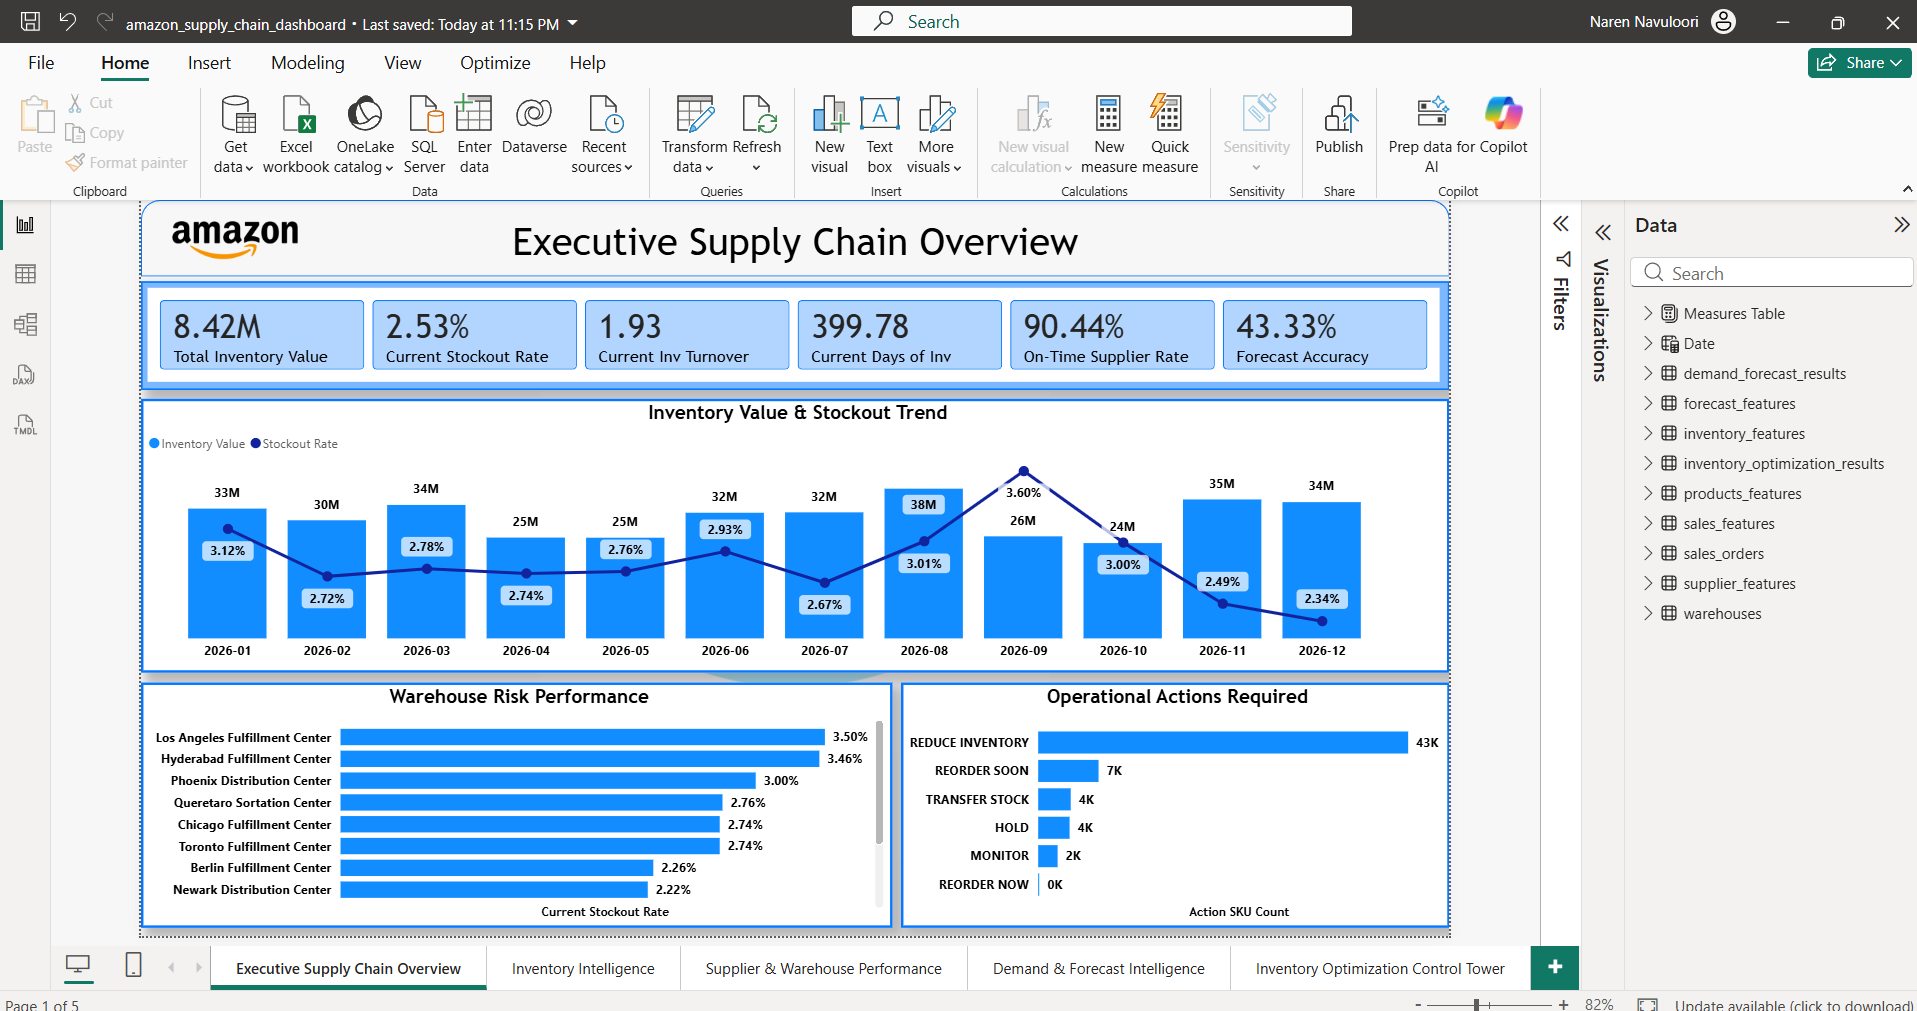

What the dashboard file says about the page in this screenshot:
{"tool":"powerbi","page":{"name":"Executive Supply Chain Overview","canvas":[1280,720],"ordinal":0},"visuals":[{"type":"shape","box":[0,0,1280.2,74.9],"z":0},{"type":"image","box":[11,17.1,160.2,41.6],"z":1000},{"type":"cardVisual","fields":{"Data":["Measures Table.Total Inventory Value","Measures Table.Current Stockout Rate","Measures Table.Current Inventory Turnover","Measures Table.Current Days of Inventory","Measures Table.On-Time Supplier Rate","Measures Table.Forecast Accuracy"]},"box":[0,79.5,1280.3,106.4],"z":2000},{"type":"lineClusteredColumnComboChart","title":"Inventory Value & Stockout Trend","fields":{"Category":["Date.Year Month"],"Y":["Measures Table.Inventory Value"],"Y2":["Measures Table.Stockout Rate"]},"box":[0,195,1280.3,268.2],"z":3000},{"type":"clusteredBarChart","title":"Warehouse Risk Performance","fields":{"Category":["warehouses.warehouse_name"],"Y":["Measures Table.Current Stockout Rate"]},"box":[0,471.9,735.1,239.7],"z":4000},{"type":"clusteredBarChart","title":"Operational Actions Required","fields":{"Category":["inventory_optimization_results.inventory_action"],"Y":["Measures Table.Action SKU Count"]},"box":[743.8,471.9,536.4,239.7],"z":5000}]}

Visuals, with their boxes on the page's 1280x720 design canvas (x1, y1, x2, y2). These are canvas units, not pixel positions in the 1917x1011 screenshot, which may show the page scaled, cropped or inside an application window:
shape: 0 0 1280 75
image: 11 17 171 59
cardVisual - Measures Table.Total Inventory Value x Measures Table.Current Stockout Rate: 0 80 1280 186
"Inventory Value & Stockout Trend" lineClusteredColumnComboChart: 0 195 1280 463
"Warehouse Risk Performance" clusteredBarChart: 0 472 735 712
"Operational Actions Required" clusteredBarChart: 744 472 1280 712
